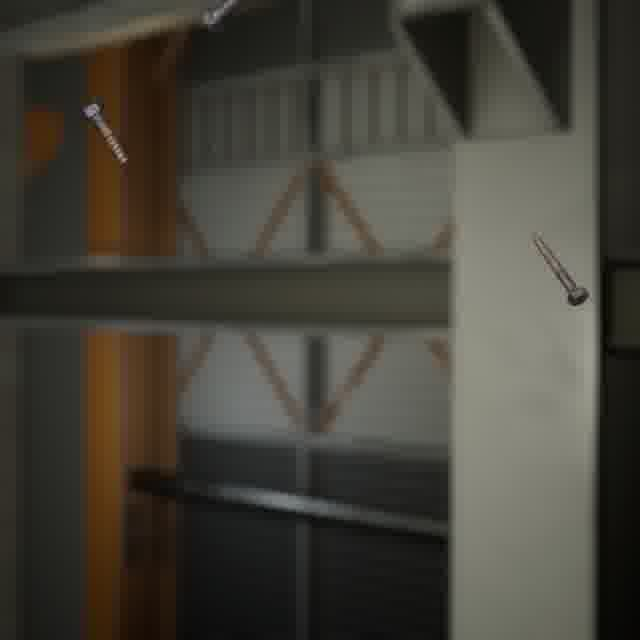bolt: (526, 228, 593, 310), (75, 95, 133, 169), (195, 0, 253, 38)
